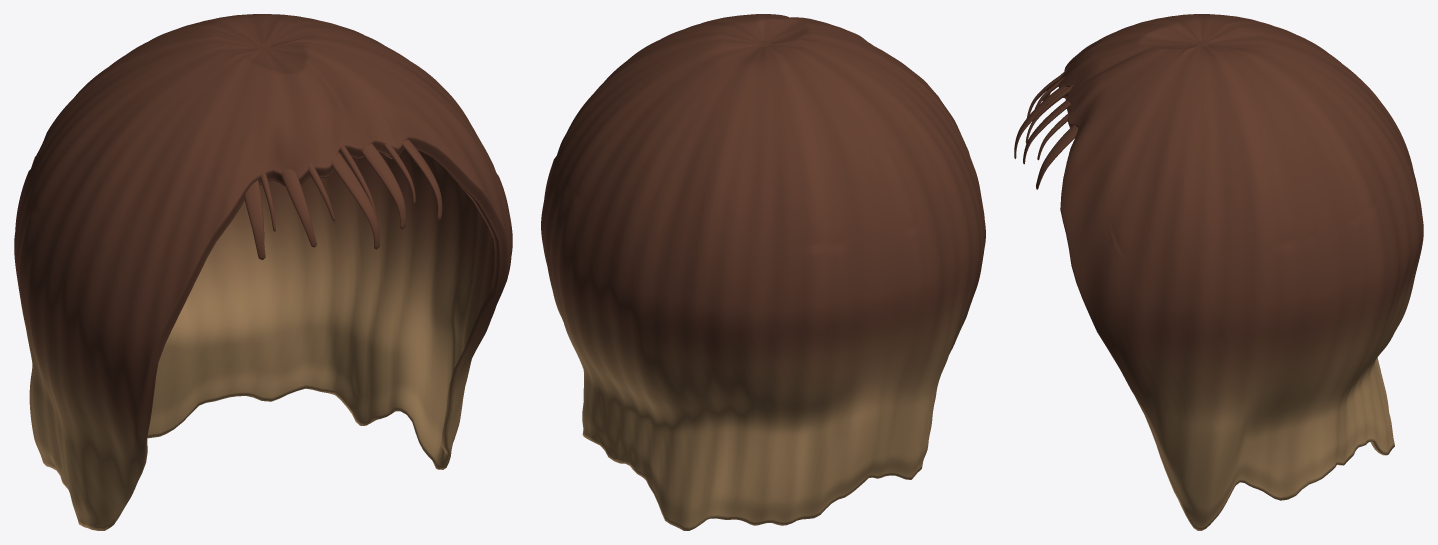
Rendered from side-sweep-cowboy-ombre.glb.
3 renders of one model, left to right at view 1: azimuth 30°, elevation 25°; view 2: azimuth 150°, elevation 25°; view 3: azimuth 270°, elevation 25°, orthographic. The views are drawn at different scales.
Parts seen in each view (by area): view 1: Hair / layered lob, Fringe / arched wisp 05, Fringe / arched wisp 07, Fringe / arched wisp 01, Fringe / arched wisp 03, Fringe / arched wisp 09; view 2: Hair / layered lob; view 3: Hair / layered lob, Fringe / arched wisp 09.
Boxes of the visible parts, x1,y1,x2,y2 form: Hair / layered lob: (14,14,512,530); Fringe / arched wisp 05: (331,152,379,249); Fringe / arched wisp 07: (361,143,405,229); Fringe / arched wisp 01: (244,180,265,259); Fringe / arched wisp 03: (281,169,316,247); Fringe / arched wisp 09: (402,139,442,220); Hair / layered lob: (541,14,985,530); Hair / layered lob: (1058,14,1423,530); Fringe / arched wisp 09: (1036,125,1078,189).
Bounding box in the file's own units: 0.8388 × 0.8737 × 0.7759.
